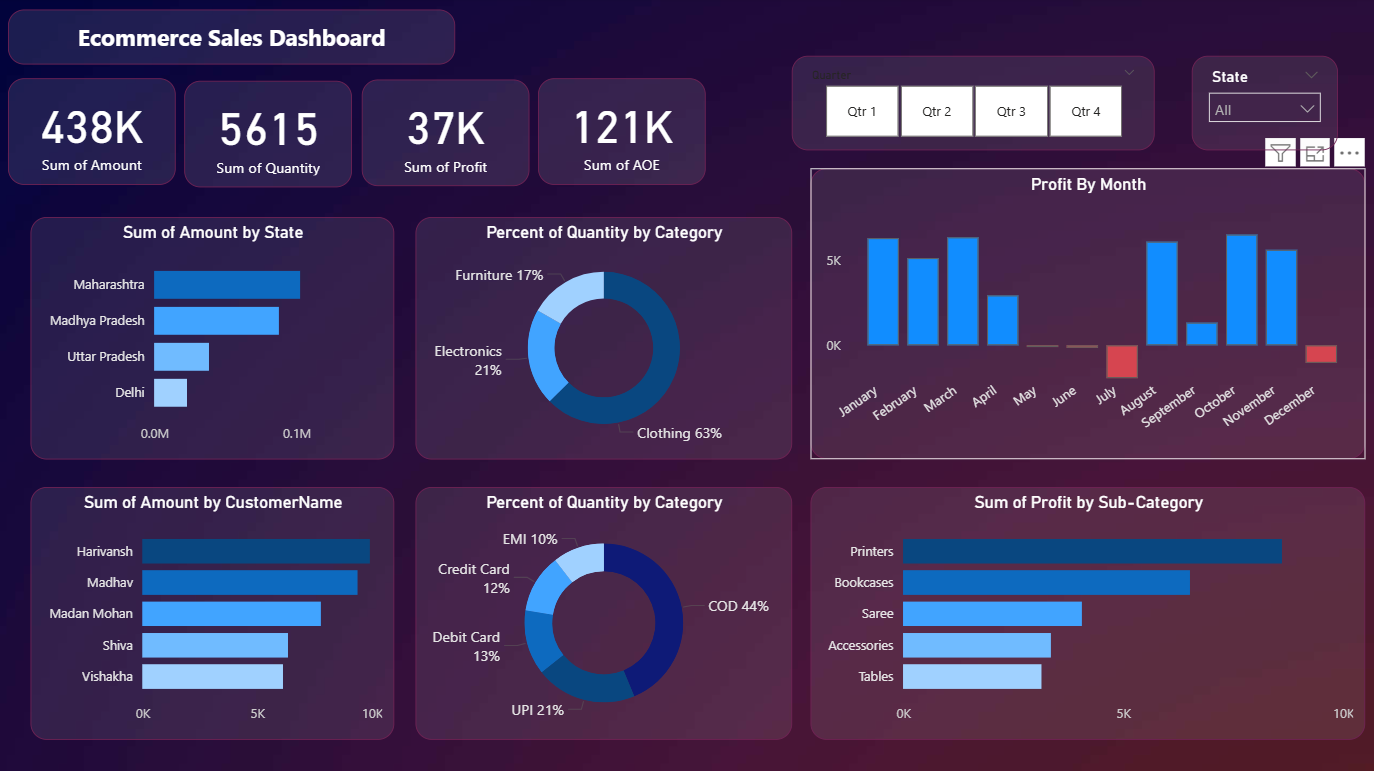

The dashboard page shown, as its layout file describes it:
{"tool":"powerbi","page":{"name":"Page 1","canvas":[1280,720],"ordinal":0},"visuals":[{"type":"textbox","box":[9.3,11.6,416.3,51.2],"z":0},{"type":"columnChart","title":"Profit By Month","fields":{"Category":["Orders.Order Date.Variation.Date Hierarchy.Month"],"Y":["Sum(Details.Profit)"]},"box":[756,159.7,515.9,270.2],"z":1000},{"type":"barChart","fields":{"Category":["Details.Sub-Category"],"Y":["Sum(Details.Profit)"]},"box":[755.8,455.8,516.3,234.9],"z":2000},{"type":"donutChart","title":"Percent of Quantity by Category","fields":{"Category":["Details.Category"],"Y":["Sum(Details.Quantity)"]},"box":[388.4,204.7,350,225.6],"z":3000},{"type":"donutChart","title":"Percent of Quantity by Category","fields":{"Y":["Sum(Details.Quantity)"],"Category":["Details.PaymentMode"]},"box":[388.4,455.8,350,234.9],"z":4000},{"type":"card","fields":{"Values":["Sum(Details.Amount)"]},"box":[9.3,75.6,155.8,98.8],"z":5000},{"type":"card","fields":{"Values":["Sum(Details.Quantity)"]},"box":[173.3,77.9,155.8,98.8],"z":6000},{"type":"card","fields":{"Values":["Sum(Details.Profit)"]},"box":[338.4,76.7,155.8,98.8],"z":7000},{"type":"card","fields":{"Values":["Sum(Details.AOE)"]},"box":[502.3,75.6,155.8,98.8],"z":8000},{"type":"barChart","fields":{"Category":["Orders.State"],"Y":["Sum(Details.Amount)"]},"box":[30.2,204.7,338.4,225.6],"z":9000},{"type":"barChart","fields":{"Y":["Sum(Details.Amount)"],"Category":["Orders.CustomerName"]},"box":[30.2,455.8,338.4,234.9],"z":10000},{"type":"slicer","fields":{"Values":["Orders.Order Date.Variation.Date Hierarchy.Quarter"]},"box":[738.4,54.7,337.2,88.4],"z":11000},{"type":"slicer","fields":{"Values":["Orders.State"]},"box":[1110.5,54.7,136,88.4],"z":12000}]}

Visuals, with their boxes in screenshot pixels (x1, y1, x2, y2), scaled from the page's 1280x720 canvas onto the 1374x771 screenshot:
textbox: {"left": 10, "top": 12, "right": 457, "bottom": 67}
"Profit By Month" columnChart: {"left": 812, "top": 171, "right": 1365, "bottom": 460}
barChart - Details.Sub-Category x Sum(Details.Profit): {"left": 811, "top": 488, "right": 1366, "bottom": 740}
"Percent of Quantity by Category" donutChart: {"left": 417, "top": 219, "right": 793, "bottom": 461}
"Percent of Quantity by Category" donutChart: {"left": 417, "top": 488, "right": 793, "bottom": 740}
card - Sum(Details.Amount): {"left": 10, "top": 81, "right": 177, "bottom": 187}
card - Sum(Details.Quantity): {"left": 186, "top": 83, "right": 353, "bottom": 189}
card - Sum(Details.Profit): {"left": 363, "top": 82, "right": 530, "bottom": 188}
card - Sum(Details.AOE): {"left": 539, "top": 81, "right": 706, "bottom": 187}
barChart - Orders.State x Sum(Details.Amount): {"left": 32, "top": 219, "right": 396, "bottom": 461}
barChart - Sum(Details.Amount) x Orders.CustomerName: {"left": 32, "top": 488, "right": 396, "bottom": 740}
slicer - Orders.Order Date.Variation.Date Hierarchy.Quarter: {"left": 793, "top": 59, "right": 1155, "bottom": 153}
slicer - Orders.State: {"left": 1192, "top": 59, "right": 1338, "bottom": 153}
